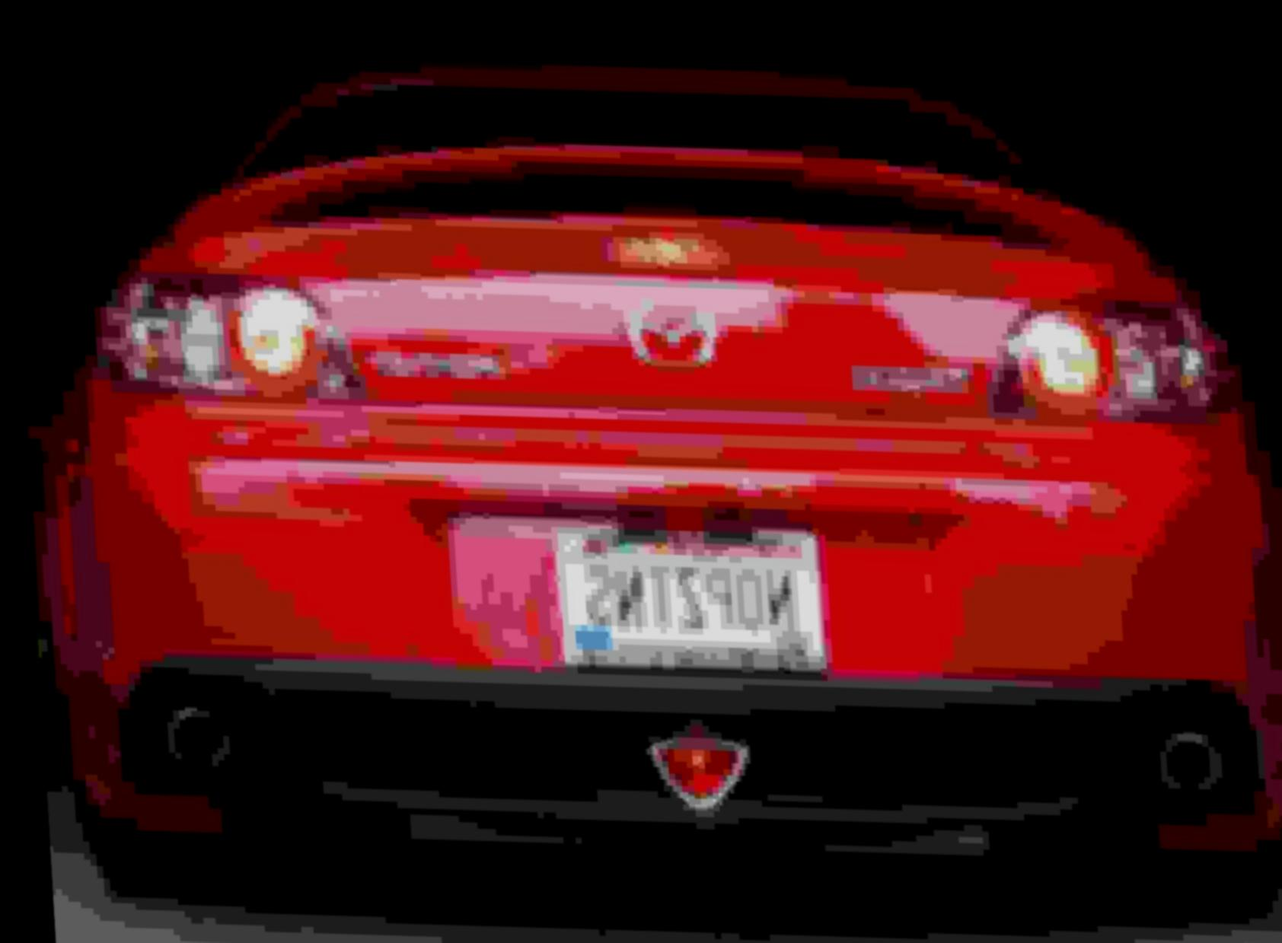License_Plate: (537, 501, 849, 695)
